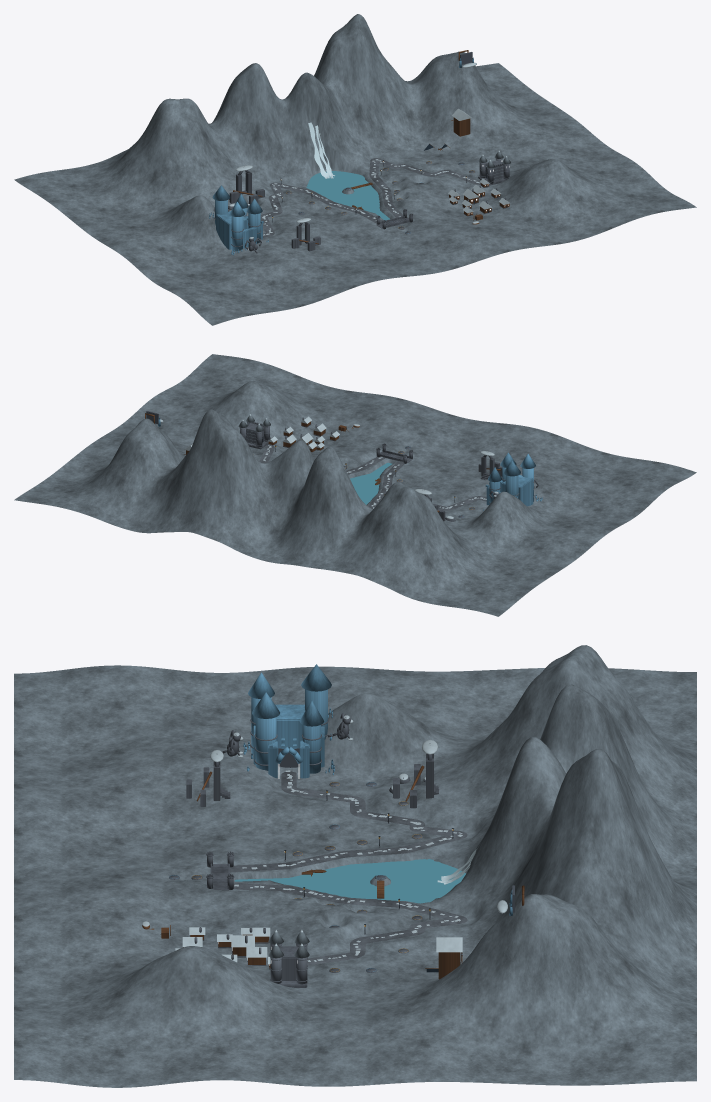
Rendered from world_ice.glb.
The picture shows the model from 3 angles, top to bottom: view 1: azimuth 30°, elevation 25°; view 2: azimuth 150°, elevation 25°; view 3: azimuth 270°, elevation 25°; orthographic projection. The views are drawn at different scales.
Visible parts, largest first — view 1: Mountain_ground, Weathered_granite, Blue_glacial_ice, Old_road_stones, Bay_water, Soft_windblown_snow, Old_oak, Waterfall; view 2: Mountain_ground, Weathered_granite, Blue_glacial_ice, Old_road_stones, Soft_windblown_snow, Bay_water, Old_oak; view 3: Mountain_ground, Blue_glacial_ice, Old_road_stones, Weathered_granite, Bay_water, Soft_windblown_snow, Old_oak.
Part boxes in pixels (<box>): Mountain_ground: <box>14,14,696,325</box>; Weathered_granite: <box>213,158,509,253</box>; Blue_glacial_ice: <box>209,57,473,255</box>; Old_road_stones: <box>260,158,480,237</box>; Bay_water: <box>306,171,389,220</box>; Soft_windblown_snow: <box>229,63,510,250</box>; Old_oak: <box>233,50,509,244</box>; Waterfall: <box>308,122,334,178</box>; Mountain_ground: <box>14,354,696,616</box>; Weathered_granite: <box>239,417,538,521</box>; Blue_glacial_ice: <box>158,417,542,517</box>; Old_road_stones: <box>259,444,486,510</box>; Soft_windblown_snow: <box>160,414,498,518</box>; Bay_water: <box>350,462,392,504</box>; Old_oak: <box>145,413,500,512</box>; Mountain_ground: <box>14,645,696,1087</box>; Blue_glacial_ice: <box>169,664,512,972</box>; Old_road_stones: <box>230,771,467,965</box>; Weathered_granite: <box>169,713,462,987</box>; Bay_water: <box>234,859,465,903</box>; Soft_windblown_snow: <box>142,715,507,964</box>; Old_oak: <box>142,765,524,979</box>.
Size of the model in its own units: 210 by 49.95 by 149.
Materials: 15 (10 with a texture image).
